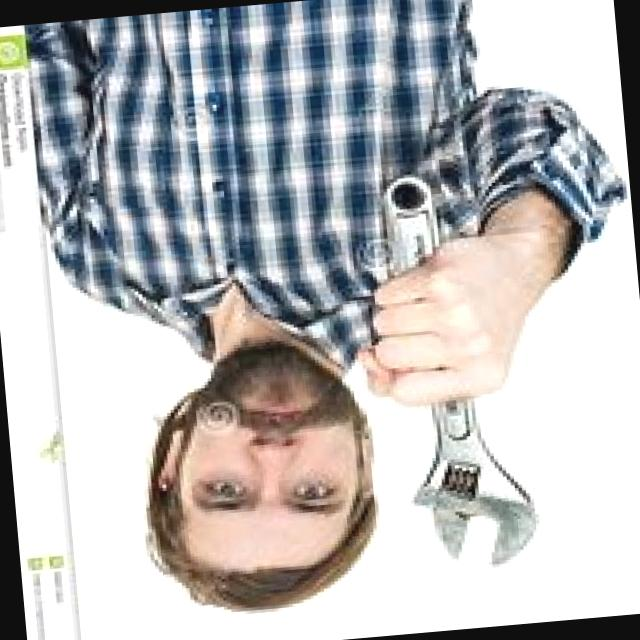wrench: (414, 399, 536, 566), (386, 177, 439, 272)
